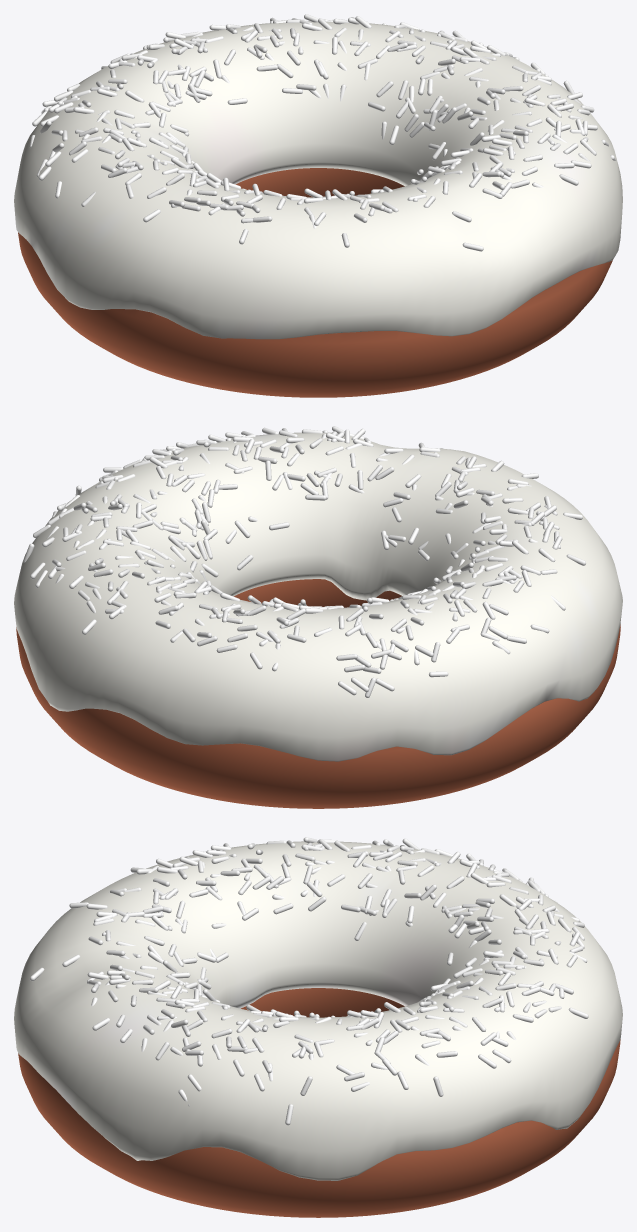
The model's file is donatu.fbx.
3 renders of one model, top to bottom at view 1: azimuth 30°, elevation 25°; view 2: azimuth 150°, elevation 25°; view 3: azimuth 270°, elevation 25°, orthographic.
Visible parts, largest first — view 1: トーラス.001, トーラス; view 2: トーラス.001, トーラス; view 3: トーラス.001, トーラス.
Part boxes in pixels (bbox=[...]): トーラス.001: bbox=[14, 21, 622, 339]; トーラス: bbox=[18, 168, 612, 397]; トーラス.001: bbox=[14, 432, 622, 761]; トーラス: bbox=[16, 579, 620, 808]; トーラス.001: bbox=[14, 841, 622, 1180]; トーラス: bbox=[18, 988, 620, 1217].
Bounding box in the file's own units: 291 × 101 × 291.
